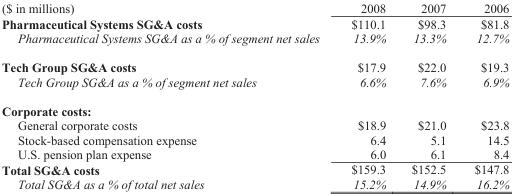table: (1, 1, 508, 190)
table column: (1, 1, 334, 190), (334, 1, 398, 190), (398, 1, 459, 190), (459, 1, 508, 190)
table column header: (1, 1, 508, 15)
table projected row header: (1, 95, 508, 117)
table row: (1, 30, 508, 52), (1, 52, 508, 74), (1, 95, 508, 117), (1, 74, 508, 95), (1, 15, 508, 30), (1, 117, 508, 132), (1, 146, 508, 161), (1, 161, 508, 176), (1, 1, 508, 15), (1, 132, 508, 146), (1, 176, 508, 190)
